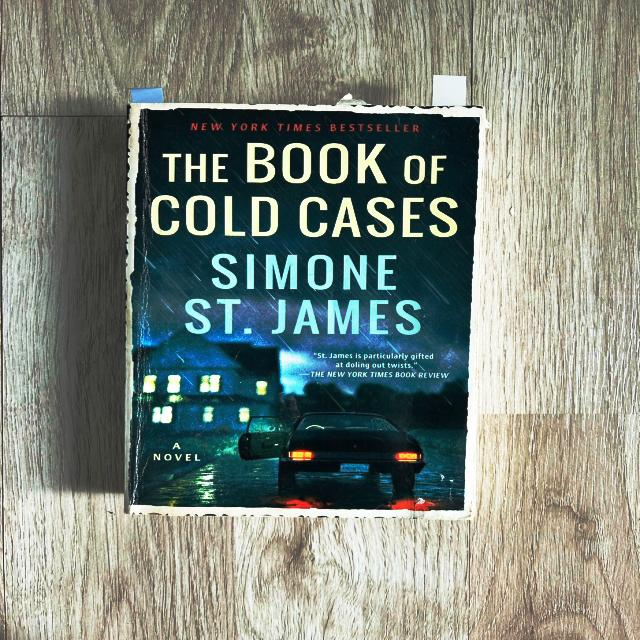Book: (126, 76, 483, 517)
